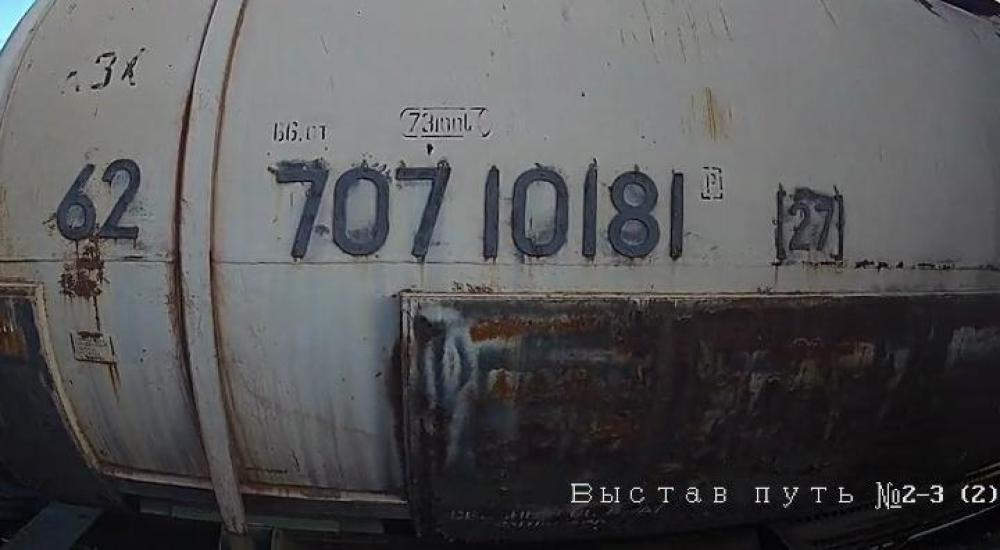Wagon-number: (264, 158, 693, 263)
